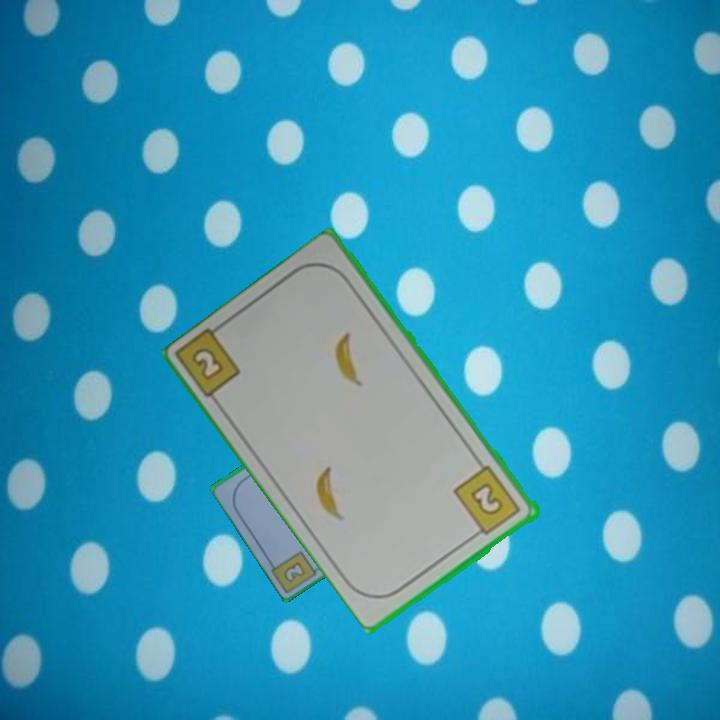2b: (450, 462, 524, 541), (188, 343, 227, 384), (280, 557, 309, 585)
